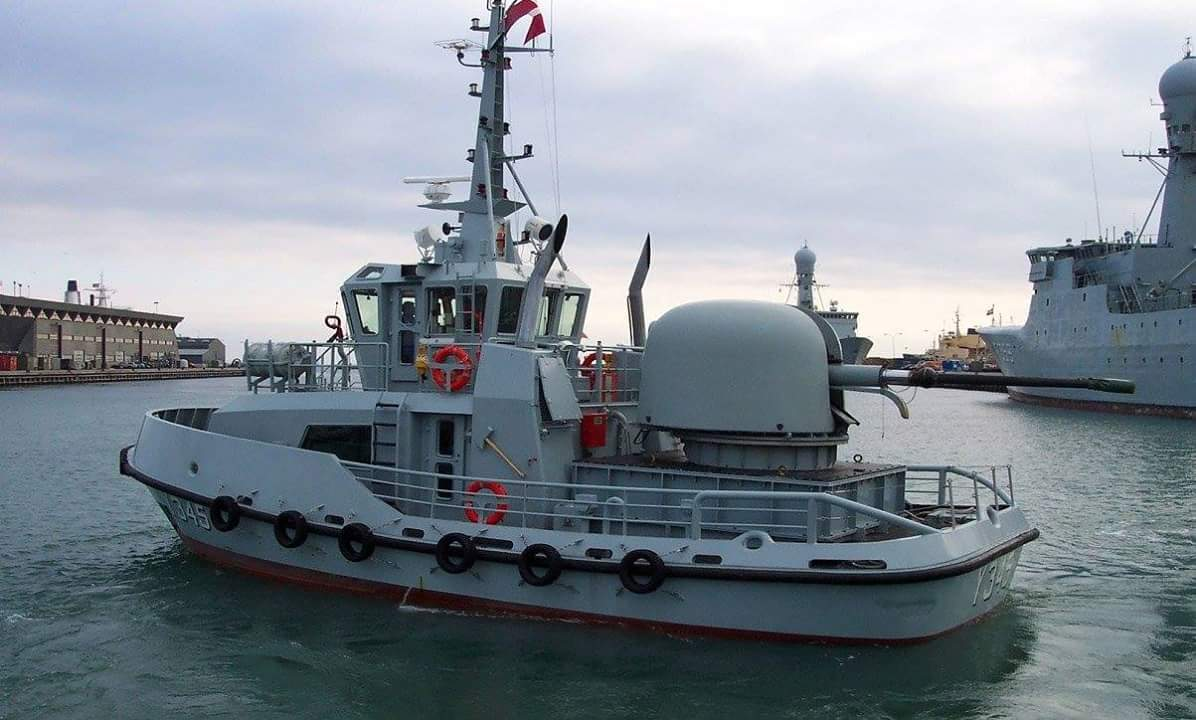otherboat: (109, 83, 1021, 648)
